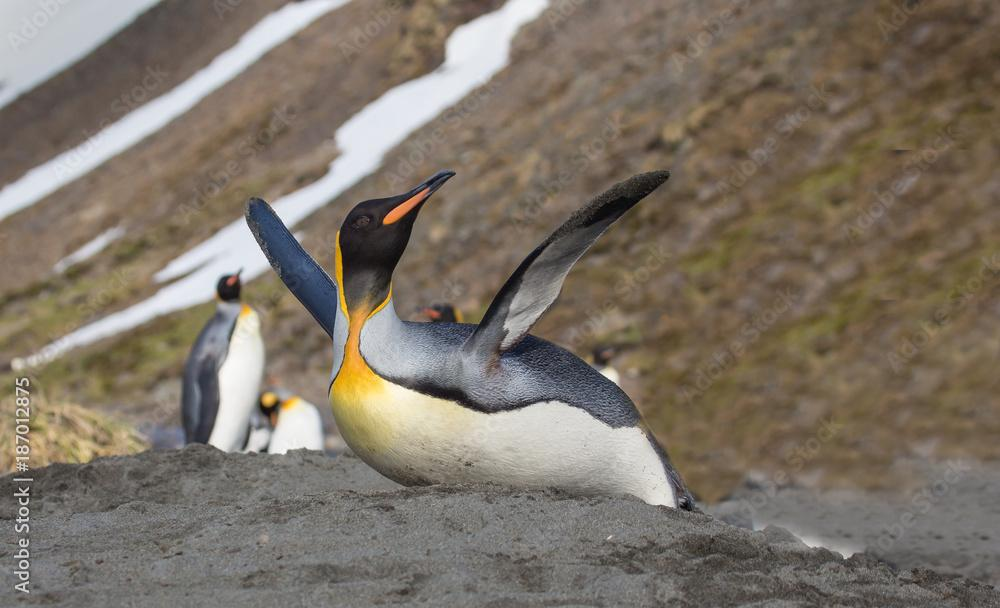king: (214, 152, 767, 567)
